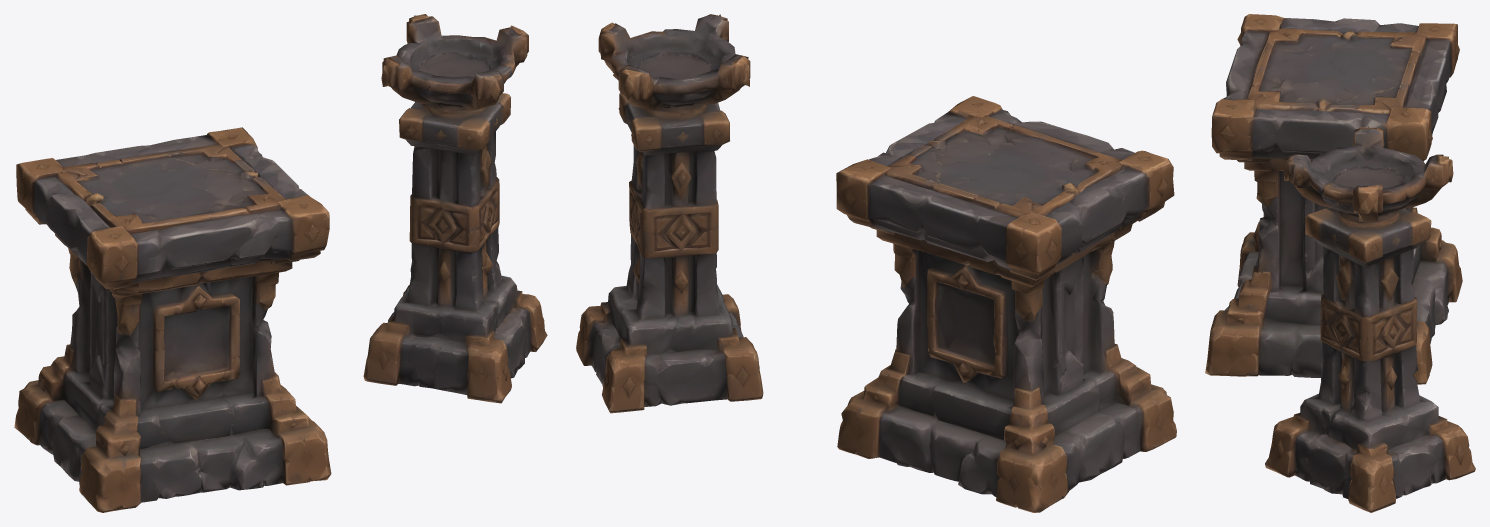
Rendered from hub_collectible_pedestal(2models).glb.
The picture shows the model from 3 angles, left to right: view 1: azimuth 30°, elevation 25°; view 2: azimuth 150°, elevation 25°; view 3: azimuth 270°, elevation 25°; orthographic projection. The views are drawn at different scales.
Parts seen in each view (by area): view 1: tripo_node_6f917e23-1190-492f-98b3-47b96107ce17; view 2: tripo_node_6f917e23-1190-492f-98b3-47b96107ce17; view 3: tripo_node_6f917e23-1190-492f-98b3-47b96107ce17.
Part boxes in pixels (x1=…): tripo_node_6f917e23-1190-492f-98b3-47b96107ce17: x1=14, y1=14, x2=547, y2=512; tripo_node_6f917e23-1190-492f-98b3-47b96107ce17: x1=576, y1=14, x2=1176, y2=512; tripo_node_6f917e23-1190-492f-98b3-47b96107ce17: x1=1205, y1=14, x2=1475, y2=512.
Size of the model in its own units: 1 by 0.6039 by 0.4652.
Materials: 1 (1 with a texture image).
